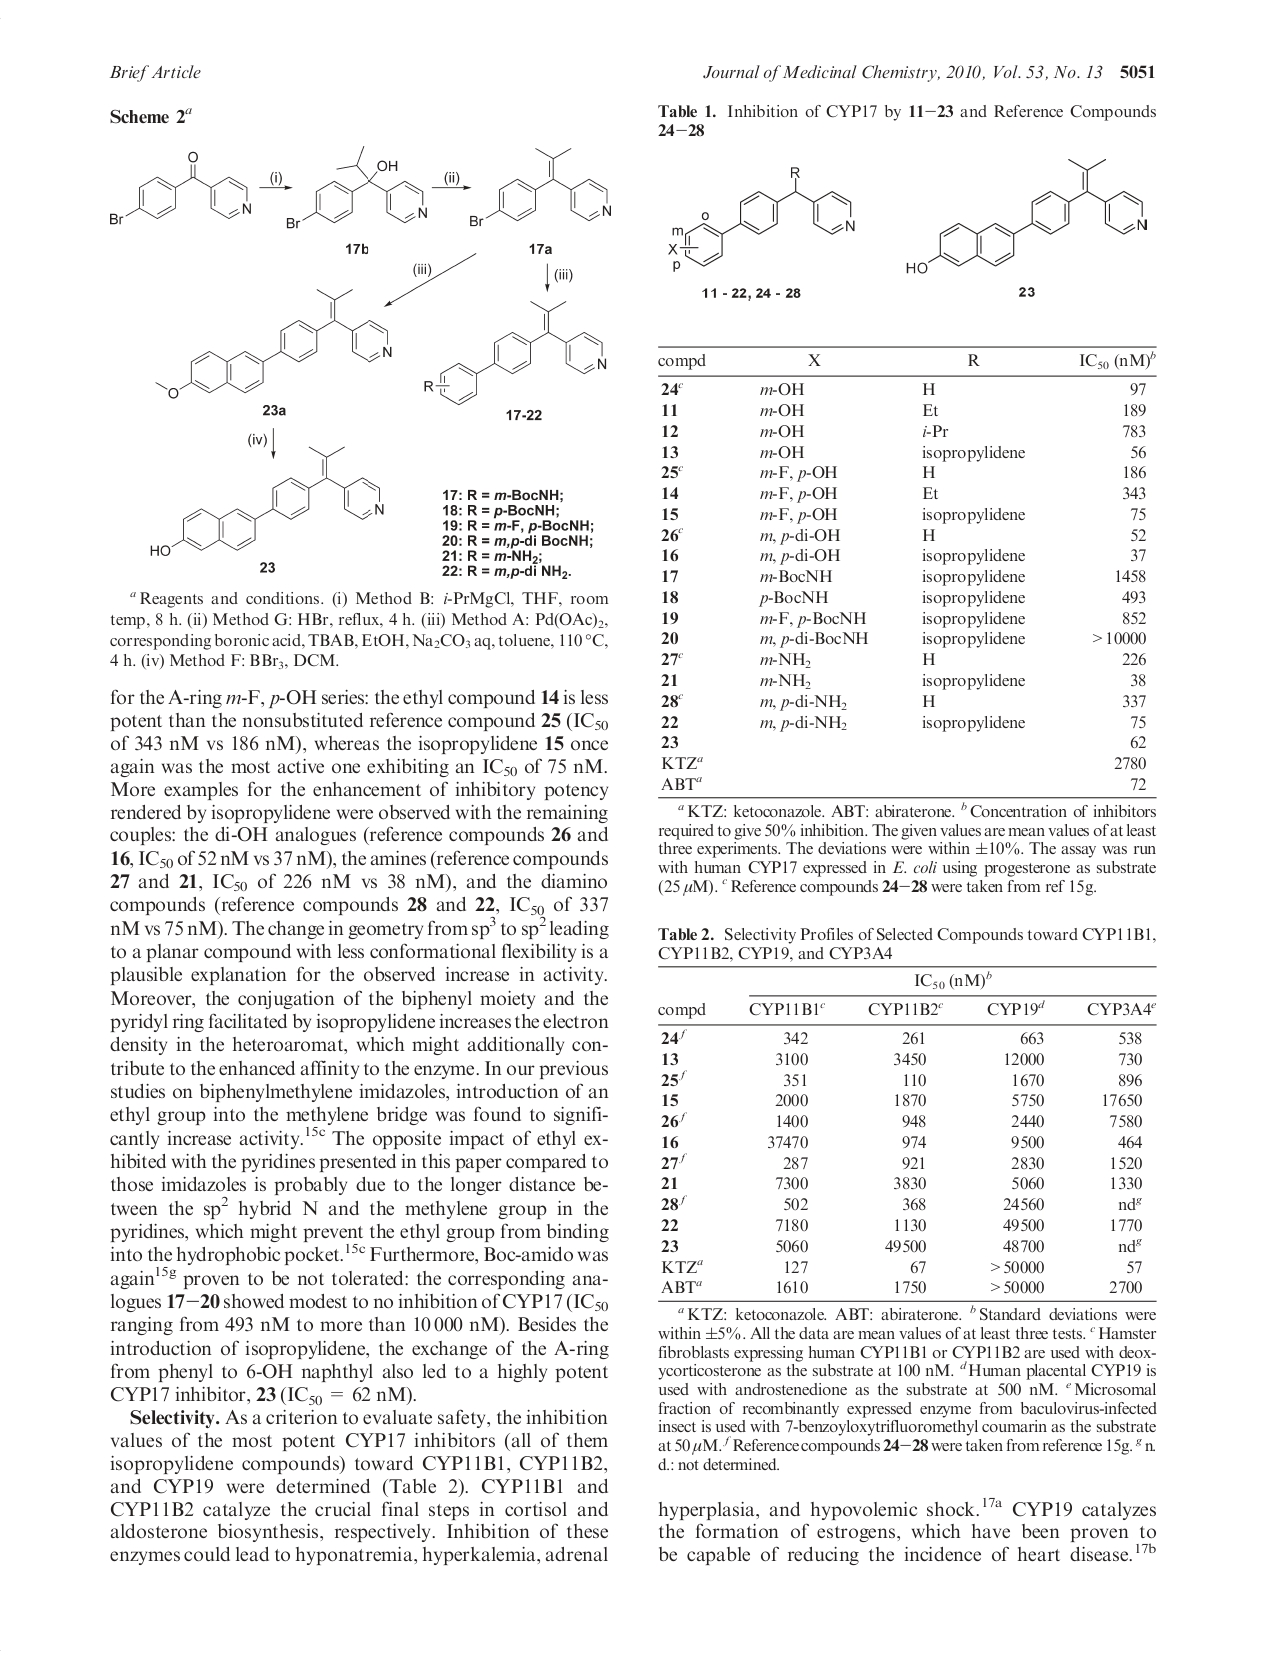exist_molecular: (902, 156, 1146, 275), (149, 443, 386, 563), (156, 286, 394, 402), (664, 161, 858, 273), (423, 299, 608, 406), (289, 145, 430, 235), (106, 149, 251, 234), (465, 148, 613, 230)
